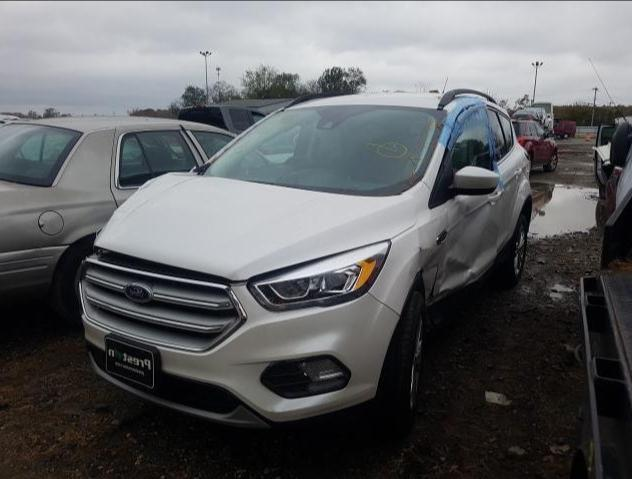Broken part: (83, 172, 417, 288), (438, 96, 505, 190), (424, 271, 452, 306)
Dent: (408, 198, 509, 304)
